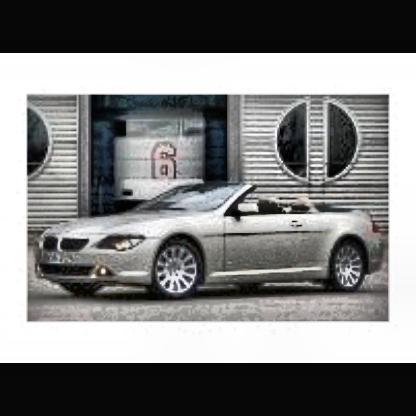BMW 6 Series Convertible 2007: (37, 181, 388, 307)
